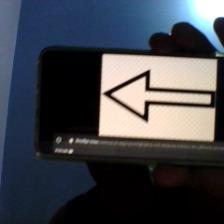left: (106, 71, 214, 124)
